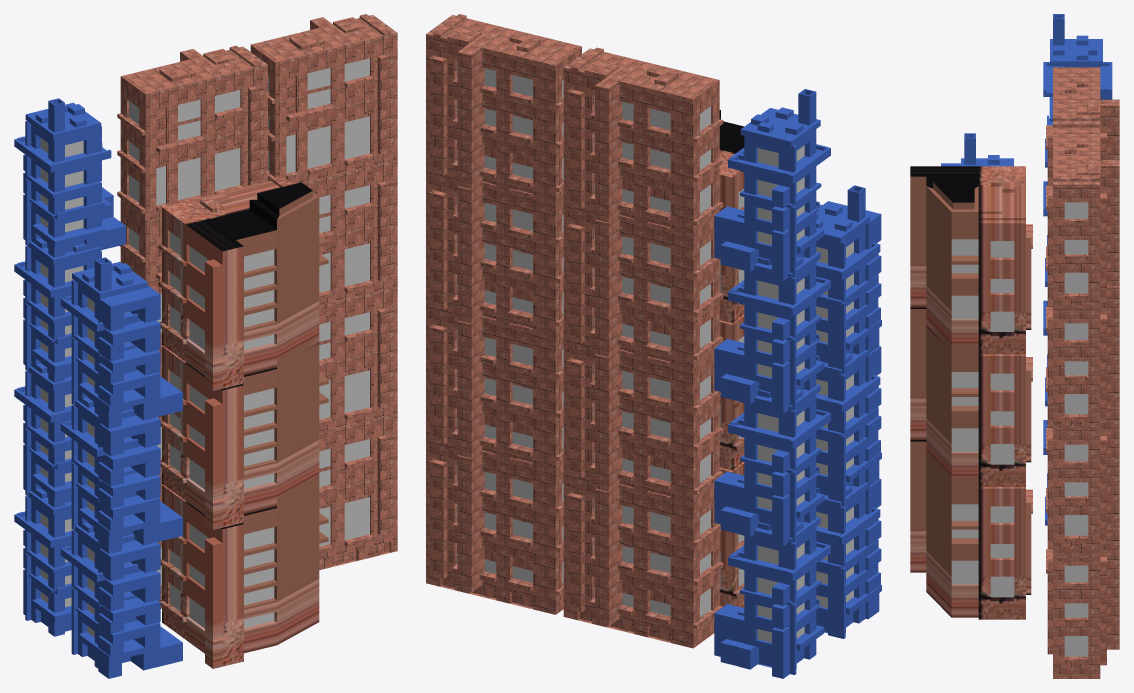
Rendered from decor02.obj.
3 views of the same model, side by side, from view 1: azimuth 30°, elevation 25°; view 2: azimuth 150°, elevation 25°; view 3: azimuth 270°, elevation 25° (orthographic). The views are drawn at different scales.
Visible parts, largest first — view 1: Cube.007_Cube, Cube.008, Cube.009, Cube.006_Cube.007; view 2: Cube.007_Cube, Cube.006_Cube.007, Cube.009, Cube.008; view 3: Cube.008, Cube.007_Cube, Cube.006_Cube.007, Cube.009.
Boxes of the visible parts, x1,y1,x2,y2 form: Cube.007_Cube: (117, 14, 397, 608); Cube.008: (158, 176, 328, 668); Cube.009: (60, 257, 182, 678); Cube.006_Cube.007: (14, 98, 125, 636); Cube.007_Cube: (426, 14, 723, 648); Cube.006_Cube.007: (714, 89, 830, 678); Cube.009: (816, 185, 881, 638); Cube.008: (719, 110, 744, 607); Cube.008: (910, 166, 1032, 619); Cube.007_Cube: (1046, 67, 1119, 678); Cube.006_Cube.007: (1043, 14, 1112, 525); Cube.009: (941, 133, 1013, 166).
Bounding box in the file's own units: 115 × 164 × 61.44.
Materials: 5 (2 with a texture image).
